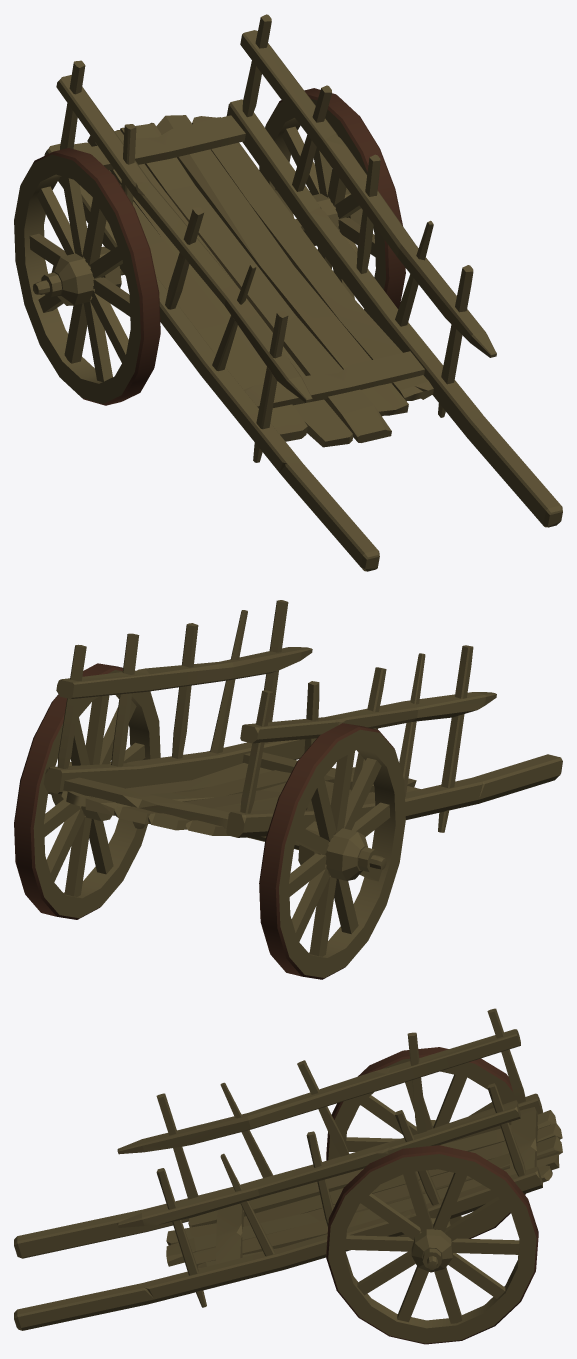
3 views of the same model, one above another, from view 1: azimuth 30°, elevation 25°; view 2: azimuth 150°, elevation 25°; view 3: azimuth 270°, elevation 25° (orthographic). The views are drawn at different scales.
Parts seen in each view (by area): view 1: 板车; view 2: 板车; view 3: 板车.
Part boxes in pixels (left/top/right/bottom): 板车: left=14, top=14, right=562, bottom=571; 板车: left=14, top=600, right=562, bottom=979; 板车: left=14, top=1008, right=562, bottom=1344.
Bounding box in the file's own units: 175 × 290 × 143.
